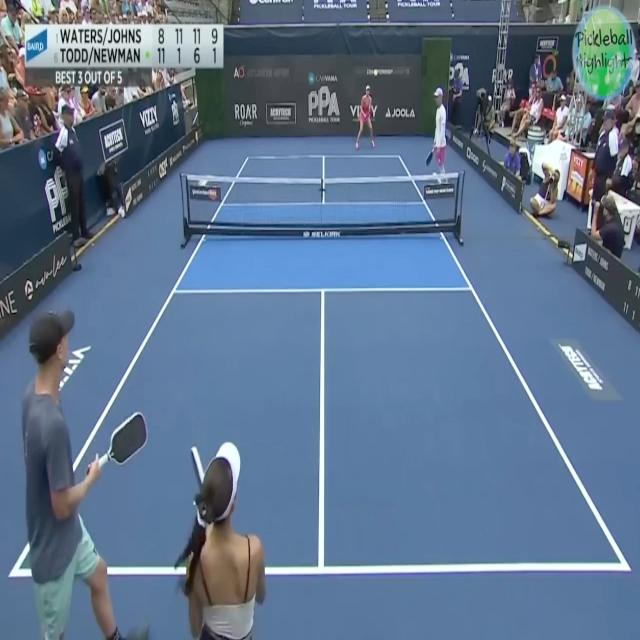Pickleball: (374, 66, 381, 78)
